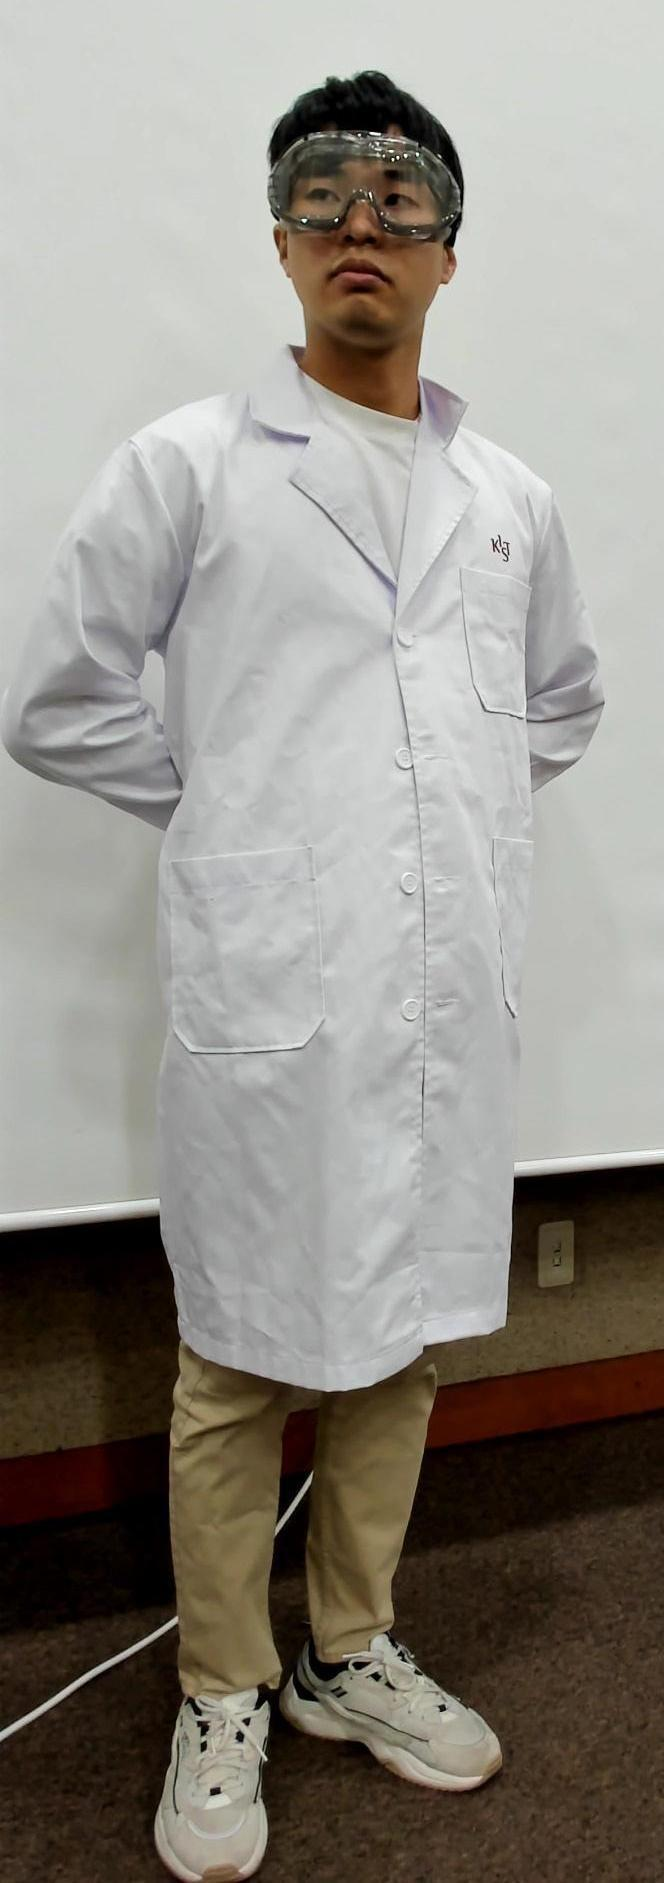lab_coat: (94, 414, 543, 1383)
